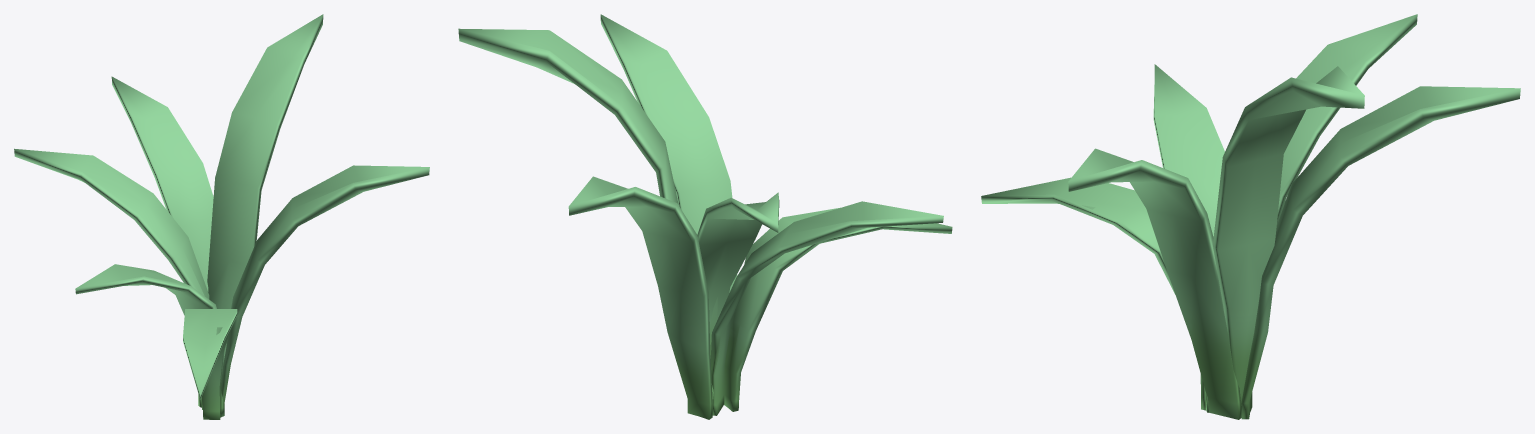
The model's file is Plant1.fbx.
3 renders of one model, left to right at view 1: azimuth 30°, elevation 25°; view 2: azimuth 150°, elevation 25°; view 3: azimuth 270°, elevation 25°, orthographic. The views are drawn at different scales.
Parts seen in each view (by area): view 1: Plant1; view 2: Plant1; view 3: Plant1.
Boxes of the visible parts, x1,y1,x2,y2 form: Plant1: (14,14,429,419); Plant1: (458,14,952,419); Plant1: (981,14,1520,419).
Bounding box in the file's own units: 34.97 × 32.58 × 37.97.
Materials: 1 (1 with a texture image).
